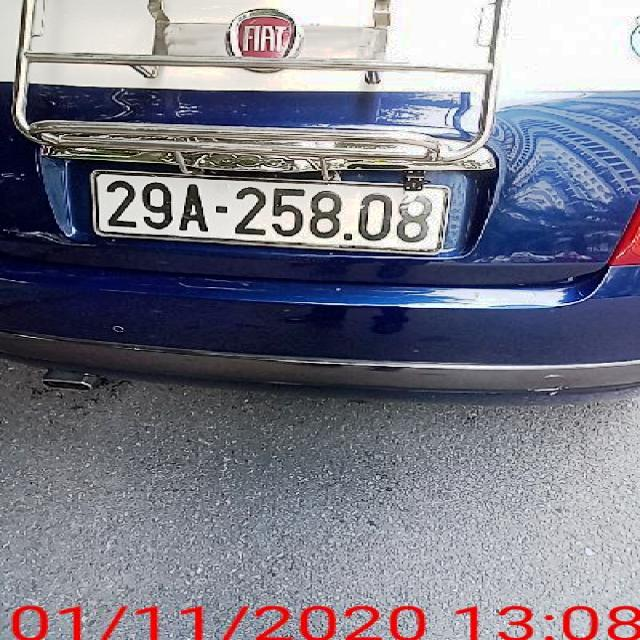license_plate: (93, 170, 450, 253)
